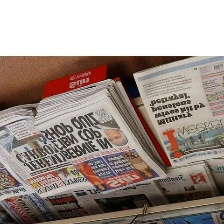news_paper: (0, 84, 168, 199), (130, 55, 224, 171), (68, 178, 173, 222), (0, 181, 105, 224), (153, 159, 215, 207), (0, 139, 40, 205), (203, 156, 224, 195)
